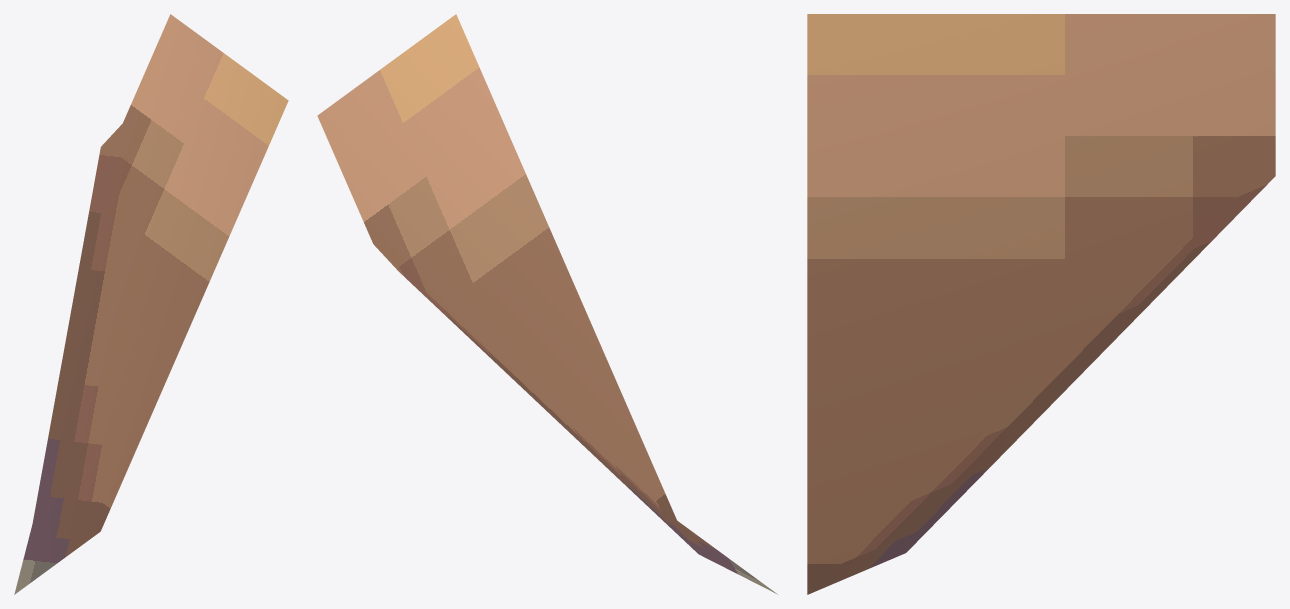
3 views of the same model, side by side, from view 1: azimuth 30°, elevation 25°; view 2: azimuth 150°, elevation 25°; view 3: azimuth 270°, elevation 25° (orthographic). The views are drawn at different scales.
Size of the model in its own units: 0.6699 by 0.9971 by 0.5.
1 material, 1 textured.
